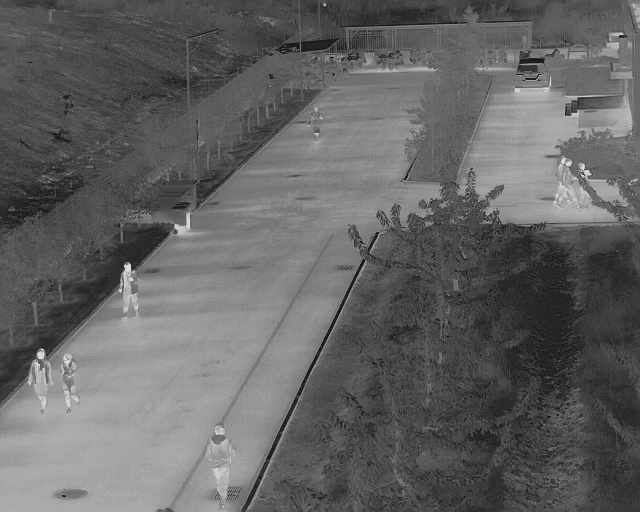person: (208, 424, 235, 509), (28, 347, 50, 413), (58, 351, 81, 413), (118, 261, 141, 320), (554, 157, 575, 208), (307, 105, 324, 142)
vehicle: (512, 59, 551, 94)
